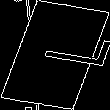L_W: (12, 34, 98, 76)
